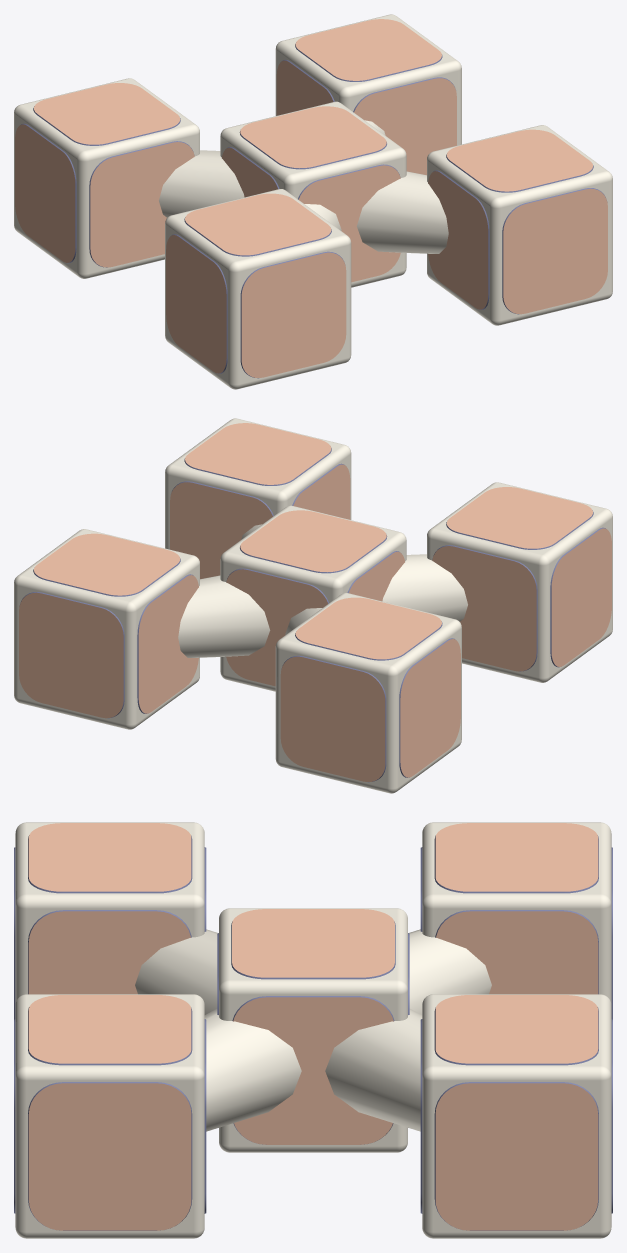
The model's file is R4C_STRUT_CROSS.fbx.
3 views of the same model, one above another, from view 1: azimuth 30°, elevation 25°; view 2: azimuth 150°, elevation 25°; view 3: azimuth 270°, elevation 25° (orthographic). The views are drawn at different scales.
Parts seen in each view (by area): view 1: R4C_STRUT_CROSS; view 2: R4C_STRUT_CROSS; view 3: R4C_STRUT_CROSS.
Part boxes in pixels (x1,y1,x2,y2): R4C_STRUT_CROSS: (14, 14, 612, 389); R4C_STRUT_CROSS: (14, 418, 612, 793); R4C_STRUT_CROSS: (14, 822, 612, 1238).
Bounding box in the file's own units: 1.62 × 0.52 × 1.62.
